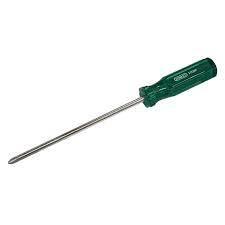screwdriver: (6, 54, 216, 165)
